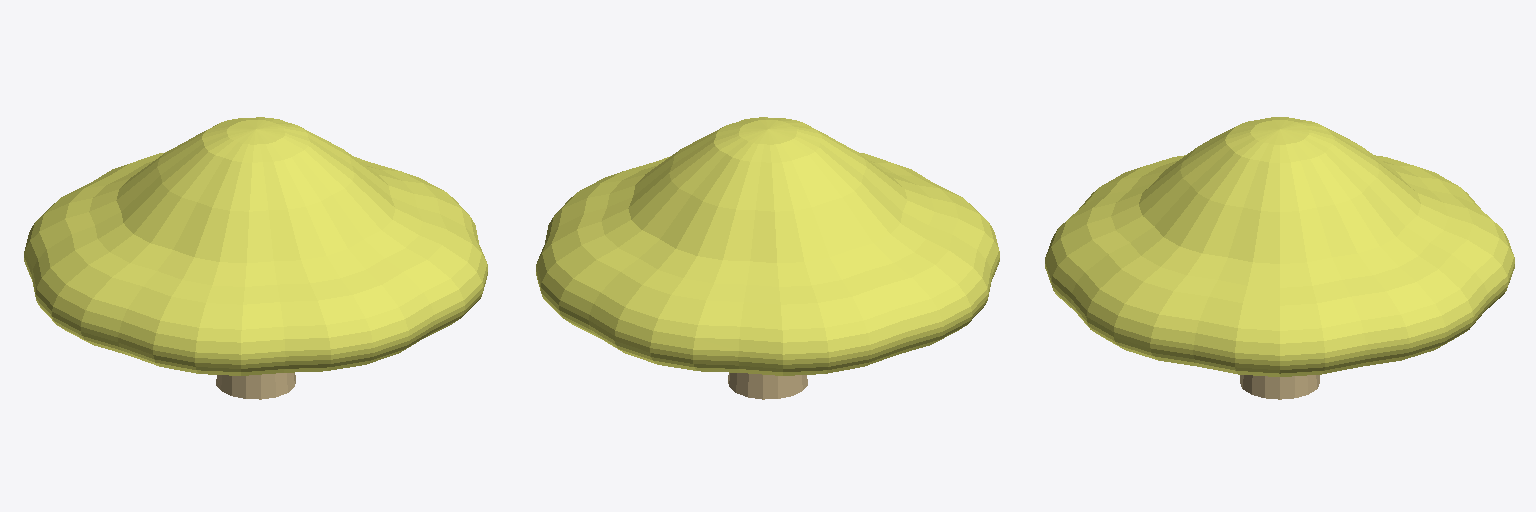
3 renders of one model, left to right at view 1: azimuth 30°, elevation 25°; view 2: azimuth 150°, elevation 25°; view 3: azimuth 270°, elevation 25°, orthographic.
Parts seen in each view (by area): view 1: Leaves.002, Trunk.002; view 2: Leaves.002, Trunk.002; view 3: Leaves.002, Trunk.002.
Boxes of the visible parts, x1=… form: Leaves.002: x1=24, y1=117, x2=487, y2=375; Trunk.002: x1=216, y1=373, x2=295, y2=399; Leaves.002: x1=536, y1=117, x2=999, y2=375; Trunk.002: x1=728, y1=373, x2=807, y2=399; Leaves.002: x1=1045, y1=117, x2=1514, y2=376; Trunk.002: x1=1240, y1=375, x2=1319, y2=399.
Bounding box in the file's own units: 3.79 × 2.25 × 3.79.
Materials: 2 (2 with a texture image).